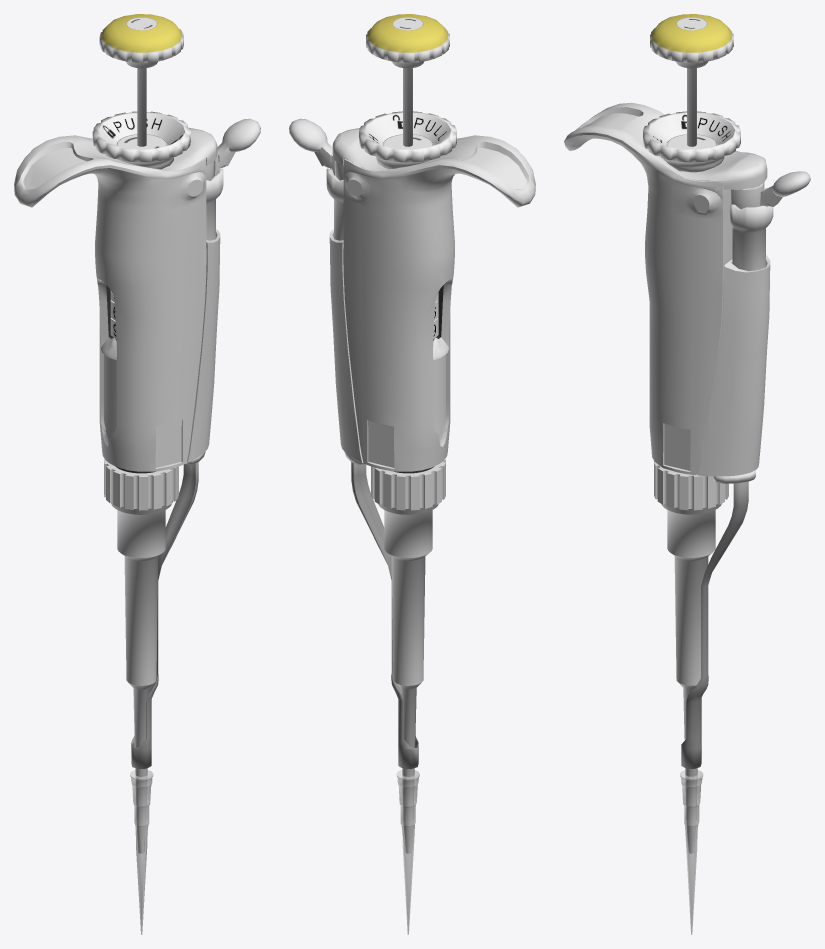
The model's file is pipetmanL.fbx.
3 views of the same model, side by side, from view 1: azimuth 30°, elevation 25°; view 2: azimuth 150°, elevation 25°; view 3: azimuth 330°, elevation 25° (orthographic).
Visible parts, largest first — view 1: Body, Tip Holder, Push Button, Lock Wheel, Tip Ejector, Tip, Rotatable Ejector Button, Body Side Lid; view 2: Body, Tip Holder, Push Button, Lock Wheel, Tip Ejector, Tip, Rotatable Ejector Button, Body Side Lid; view 3: Body, Tip Holder, Tip Ejector, Push Button, Lock Wheel, Tip, Rotatable Ejector Button.
Part boxes in pixels (x1,y1,x2,y2): Body: [14, 128, 220, 471]; Tip Holder: [104, 459, 178, 853]; Push Button: [99, 14, 183, 146]; Lock Wheel: [92, 111, 190, 169]; Tip Ejector: [131, 168, 223, 768]; Tip: [130, 770, 153, 934]; Rotatable Ejector Button: [214, 118, 260, 175]; Body Side Lid: [100, 349, 116, 434]; Body: [329, 128, 535, 471]; Tip Holder: [371, 459, 445, 853]; Push Button: [366, 14, 449, 146]; Lock Wheel: [359, 111, 456, 169]; Tip Ejector: [326, 168, 418, 768]; Tip: [396, 770, 419, 934]; Rotatable Ejector Button: [289, 118, 335, 175]; Body Side Lid: [433, 349, 449, 434]; Body: [564, 102, 770, 476]; Tip Holder: [654, 461, 728, 853]; Tip Ejector: [681, 204, 773, 768]; Push Button: [650, 14, 733, 146]; Lock Wheel: [643, 111, 740, 172]; Tip: [680, 770, 703, 934]; Rotatable Ejector Button: [760, 171, 810, 206].
Size of the model in its own units: 2.78 by 7.83 by 28.46.
